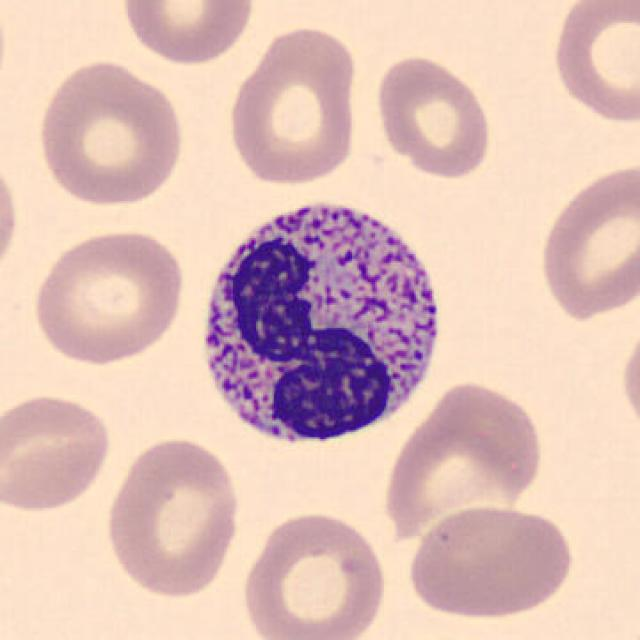Neutrophil: (186, 183, 452, 462)
RBC: (378, 378, 548, 542), (100, 432, 246, 601), (222, 21, 364, 191), (32, 56, 188, 210), (27, 226, 188, 366), (403, 499, 578, 624), (237, 506, 391, 640), (534, 157, 636, 324), (370, 51, 496, 180), (0, 389, 116, 516), (547, 0, 640, 127), (115, 0, 258, 67), (0, 144, 23, 288), (617, 314, 640, 442)
